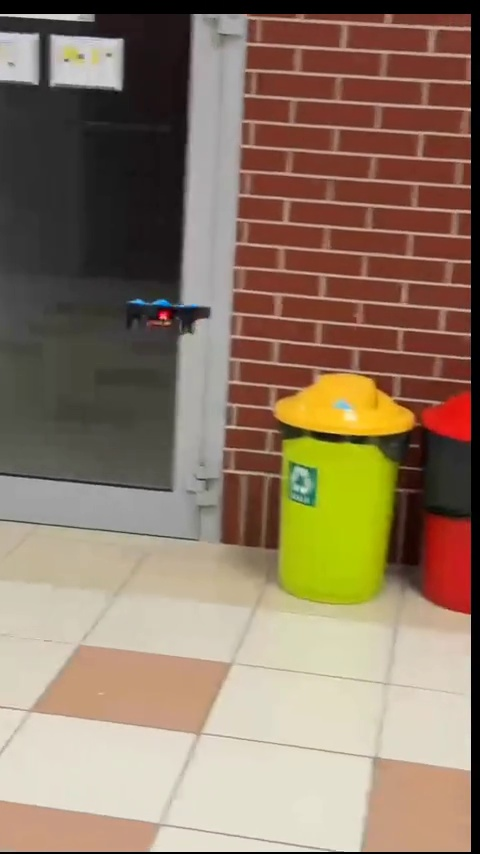drone: (120, 293, 215, 335)
